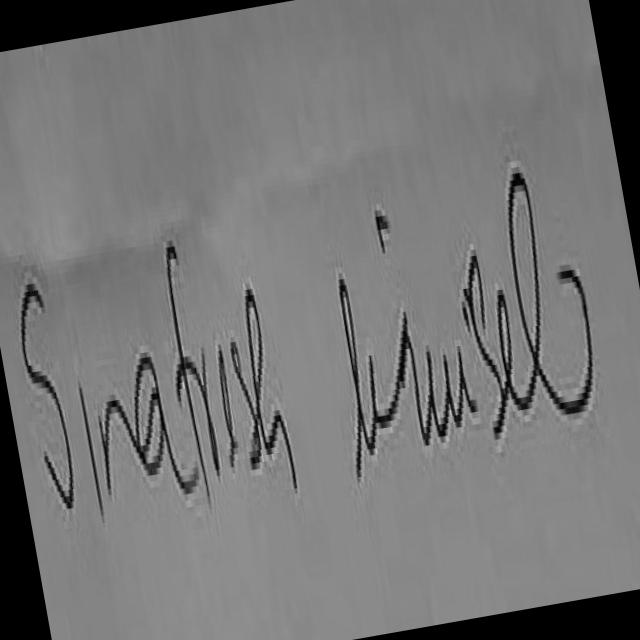S: (21, 278, 71, 504)
a: (133, 342, 199, 503)
e: (496, 278, 539, 416), (220, 344, 237, 467)
f: (162, 235, 213, 498)
g: (464, 249, 508, 433)
h: (245, 288, 297, 486)
i: (77, 382, 104, 511), (366, 332, 393, 438), (455, 325, 480, 427), (394, 311, 403, 387)
l: (503, 161, 586, 419), (337, 256, 376, 475)
n: (100, 385, 159, 487)
q: (397, 304, 430, 441)
r: (195, 348, 223, 483)
s: (231, 336, 261, 469)
u: (425, 341, 458, 451)
